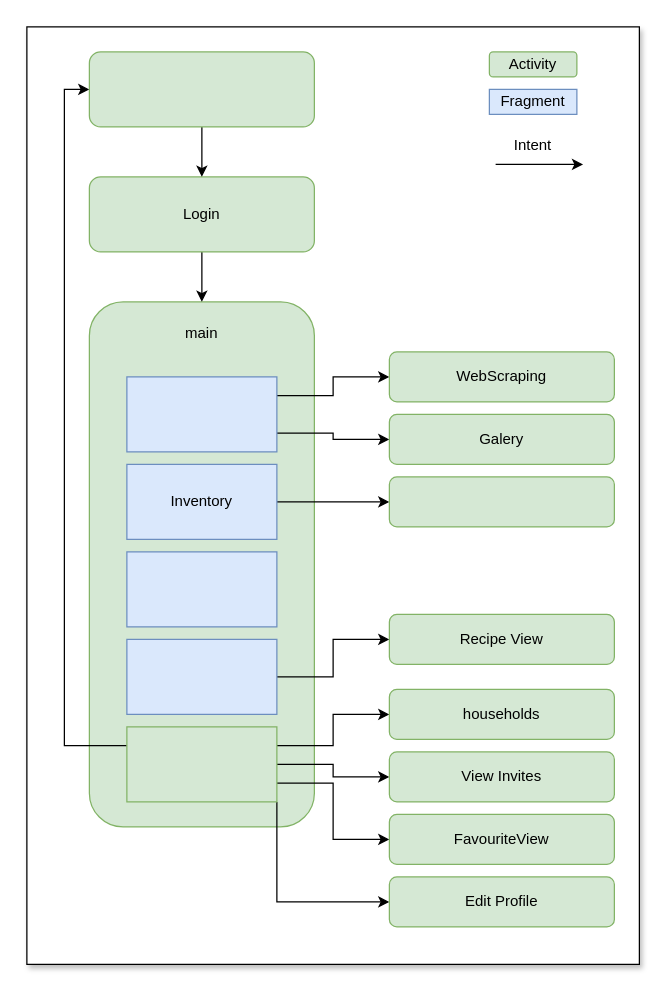
Some shapes in this 669 by 995 pixel diagram are drawn without their labels. Here are the shapes that lost their labels. From the top down, the centre of each, then its label:
At pixel 201 89: "Sign Up".
At pixel 201 414: "ChefsCorner (Recipes)".
At pixel 501 501: "Scan".
At pixel 201 589: "Shoppinglist".
At pixel 201 676: "home".
At pixel 201 764: "User".
